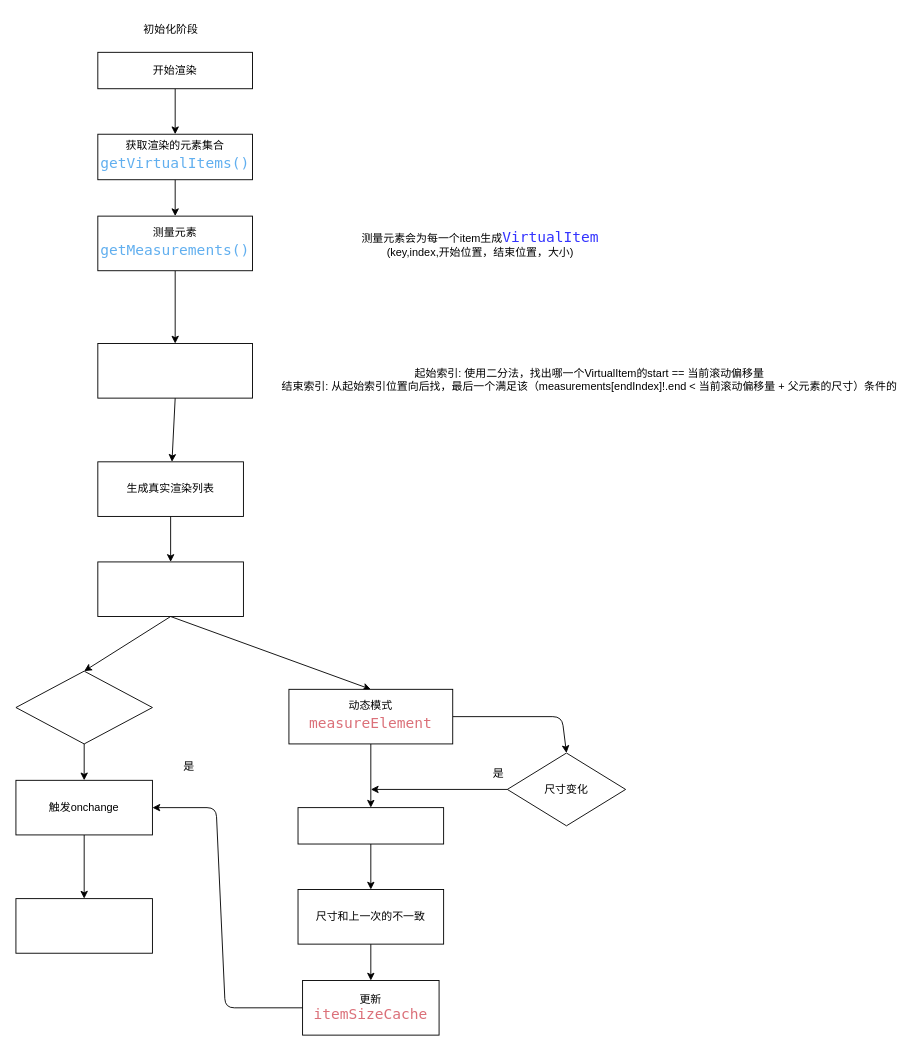
This 924x1051 diagram has some shape labels left out. Here are the shapes that lost their labels. From the top down, the box of each, then its label:
(97, 343, 253, 398): 计算可视区域渲染范围(startIndex,endIndex)
(97, 561, 243, 617): _willUpdate 监听scrollElemment的尺寸变化和滚动事件
(15, 670, 152, 744): 是否触发上述事件
(297, 807, 444, 844): 重新测量该元素
(15, 898, 152, 953): 重渲染
